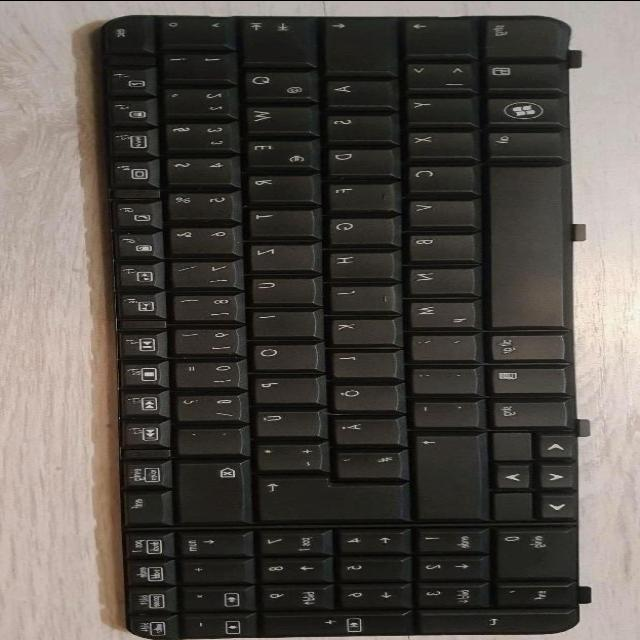0: (168, 358, 240, 386)
1: (157, 50, 234, 78)
2: (157, 86, 233, 114)
3: (158, 120, 234, 148)
4: (160, 155, 233, 183)
5: (161, 189, 234, 218)
6: (163, 225, 235, 253)
7: (165, 258, 236, 286)
8: (167, 291, 237, 319)
9: (167, 326, 237, 353)
a: (320, 78, 393, 104)
accent: (171, 426, 243, 453)
ae: (328, 416, 400, 444)
alt-left: (482, 130, 563, 156)
altgr-right: (482, 332, 565, 360)
b: (400, 230, 475, 260)
c: (401, 163, 475, 191)
caret: (157, 14, 231, 43)
comma: (402, 332, 476, 359)
d: (322, 147, 394, 173)
del: (170, 460, 243, 521)
e: (240, 138, 313, 165)
enter: (251, 473, 407, 521)
f: (321, 181, 394, 208)
g: (321, 215, 393, 243)
h: (321, 249, 392, 277)
hash: (328, 449, 403, 477)
i: (244, 308, 315, 335)
j: (322, 283, 394, 310)
k: (323, 316, 395, 344)
keyboard: (97, 14, 583, 640)
l: (325, 349, 397, 376)
less: (400, 61, 473, 87)
m: (402, 298, 475, 326)
minus: (405, 398, 477, 426)
n: (401, 265, 474, 293)
o: (244, 340, 317, 368)
oe: (326, 382, 398, 409)
p: (246, 374, 319, 402)
plus: (249, 441, 321, 469)
point: (403, 365, 475, 392)
q: (239, 67, 313, 97)
r: (241, 172, 314, 200)
s: (320, 113, 394, 139)
shift-left: (401, 17, 473, 53)
shift-lock: (319, 18, 396, 72)
shift-right: (408, 432, 484, 519)
space: (482, 164, 566, 326)
ss: (170, 391, 241, 419)
strg-left: (480, 14, 561, 56)
strg-right: (487, 398, 570, 427)
t: (241, 207, 313, 235)
tab: (237, 16, 314, 62)
u: (243, 275, 316, 303)
ue: (247, 407, 322, 435)
v: (401, 197, 475, 224)
w: (238, 104, 312, 131)
x: (401, 130, 474, 156)
y: (401, 96, 473, 122)
z: (242, 241, 314, 269)
